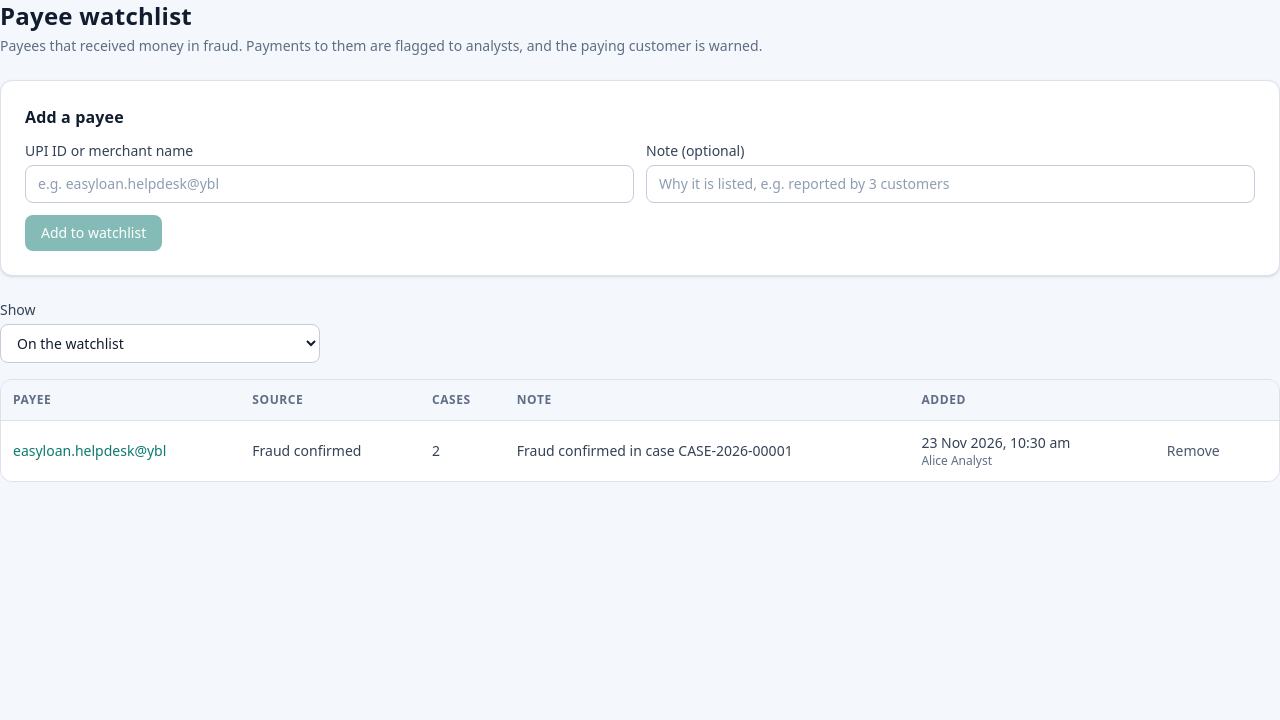
Test: PayeeWatchlist › removing asks first, sends the reason and reloads
This screenshot has width=1280, height=720.
Step 1. Click the button "Remove" → [1193, 451], box [1155,435,1232,467]
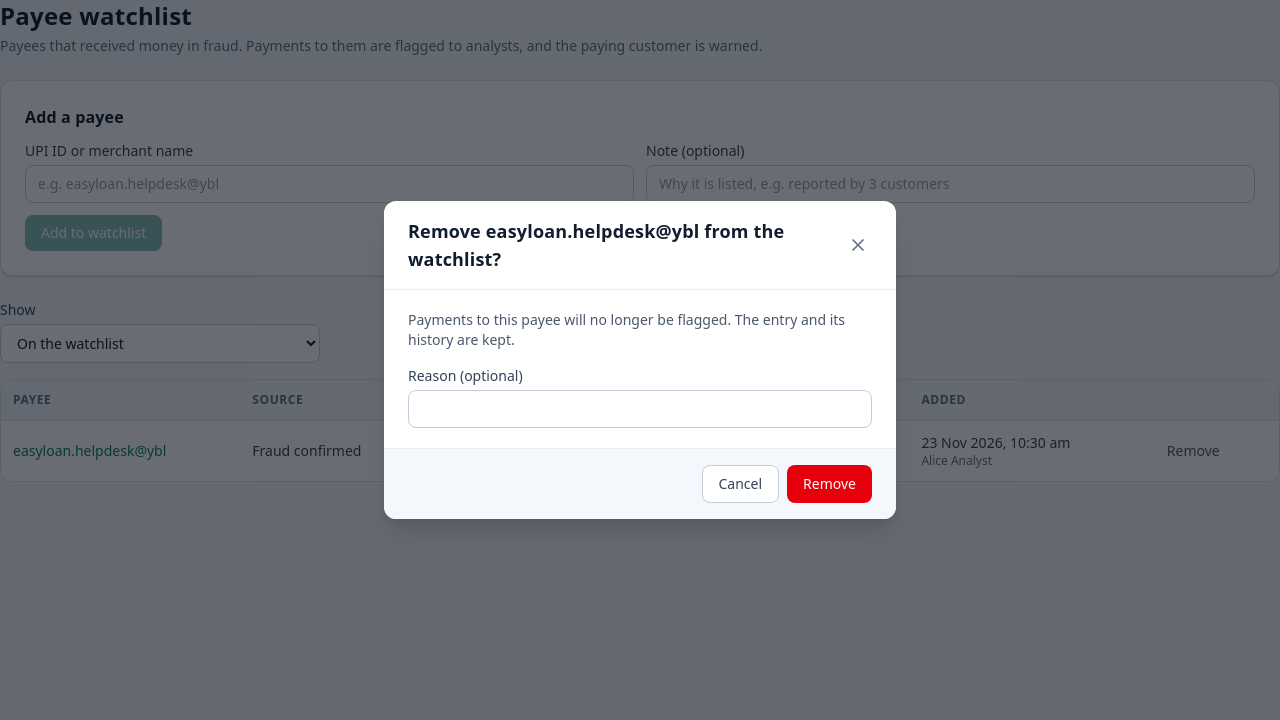
Step 2. Type "false report" into the field labelled "Reason (optional)" → [640, 409], box [408,390,872,428]
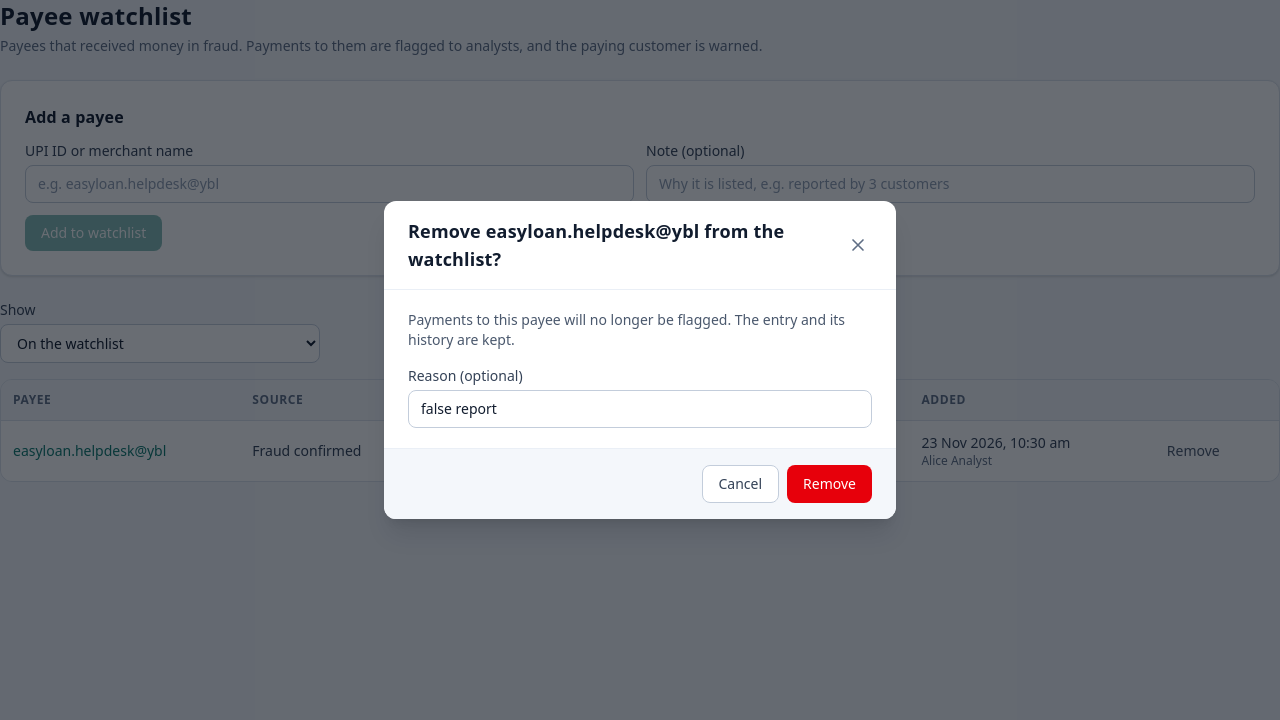
Step 3. Click the button "Remove" → [830, 484], box [787,465,872,503]
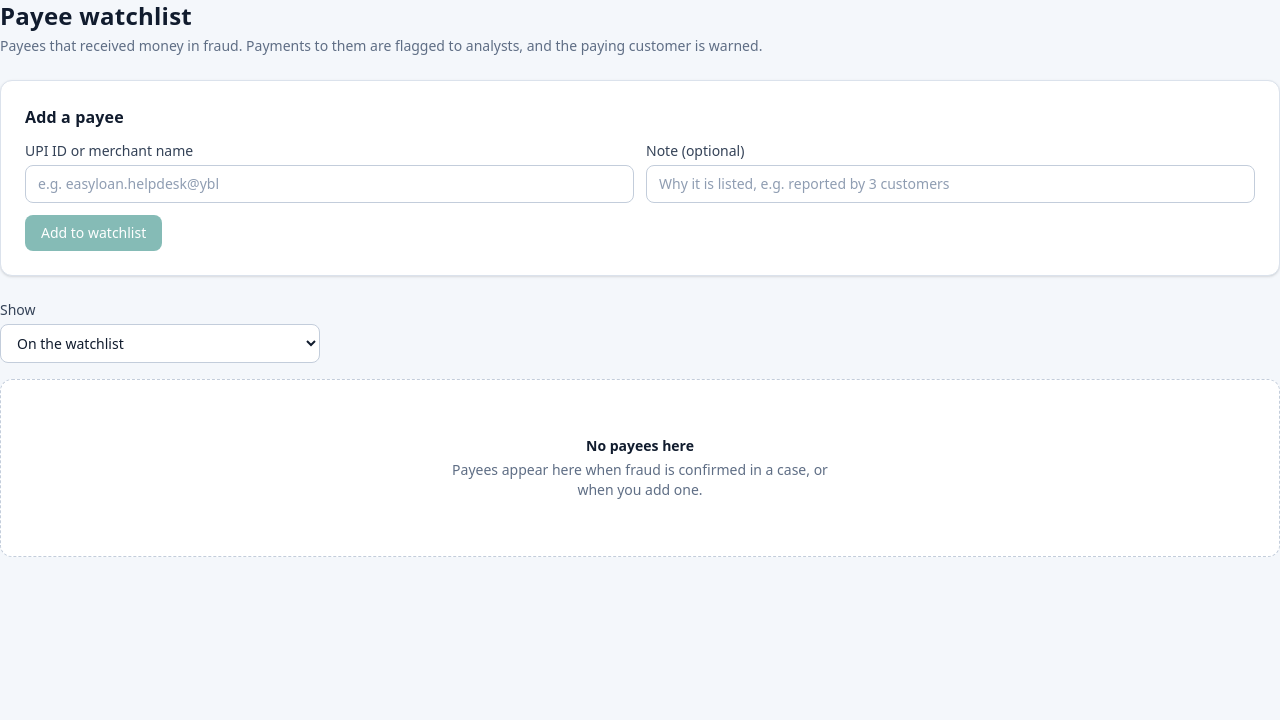
Now the text "No payees here" is shown, box [586,436,694,456]
Now the dialog is gone
